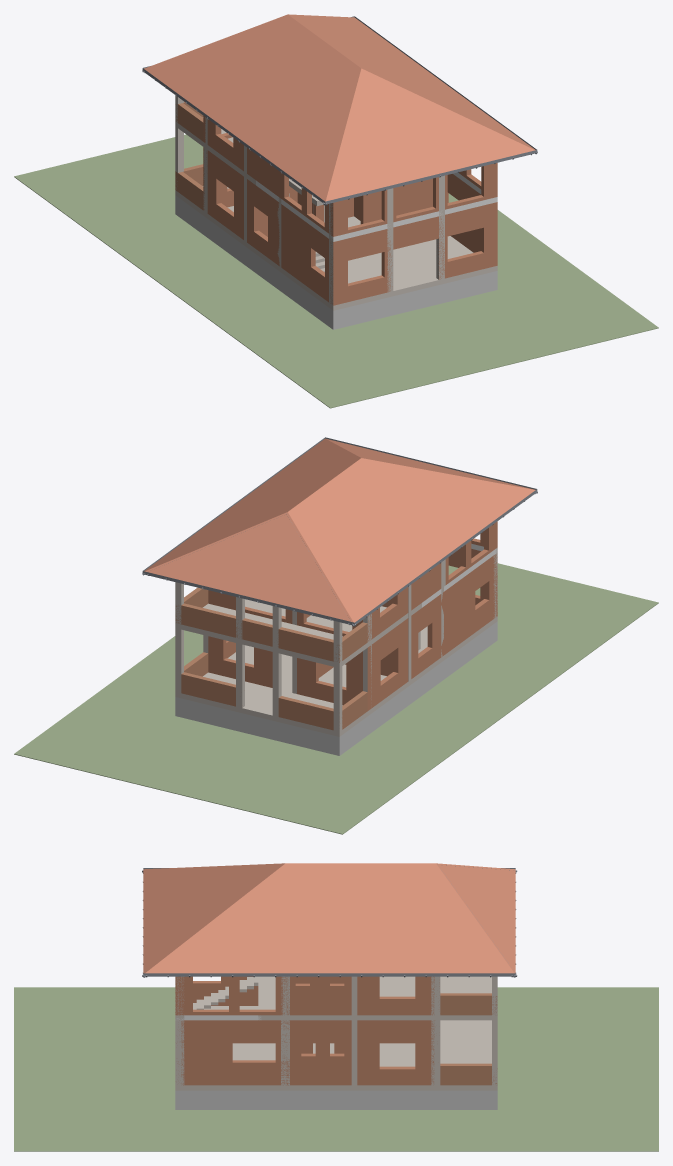
Rendered from konkan_house.glb.
The picture shows the model from 3 angles, top to bottom: view 1: azimuth 30°, elevation 25°; view 2: azimuth 150°, elevation 25°; view 3: azimuth 270°, elevation 25°; orthographic projection.
Parts seen in each view (by area): view 1: Ground, Hip_Roof, Living_Kitchen_South, Plinth, Floor_Slab_0, Living_Kitchen_West, Bedroom_1_West, Living_Kitchen_2_South, Living_Kitchen_2_West, Bathroom_1_South, Living_Kitchen_East, Bedroom_2_West (+9 smaller); view 2: Ground, Hip_Roof, Plinth, Living_Kitchen_West, Floor_Slab_0, Upper_Verandah_North, Floor_Slab_1, Verandah_North, Bedroom_1_West, Bedroom_1_North, Workshop_North, Pillar_0_First_Pillar_1 (+11 smaller); view 3: Ground, Hip_Roof, Living_Kitchen_East, Plinth, Floor_Slab_0, Workshop_East, Floor_Slab_1, Bedroom_3_East, Bathroom_2_East, Living_Kitchen_2_East, pani_patti_E, Verandah_East (+9 smaller).
Part boxes in pixels (x1=…): Ground: x1=14, y1=134, x2=658, y2=408; Hip_Roof: x1=144, y1=14, x2=535, y2=201; Living_Kitchen_South: x1=330, y1=202, x2=497, y2=305; Plinth: x1=175, y1=195, x2=497, y2=329; Floor_Slab_0: x1=175, y1=186, x2=497, y2=310; Living_Kitchen_West: x1=247, y1=179, x2=328, y2=302; Bedroom_1_West: x1=206, y1=150, x2=243, y2=239; Living_Kitchen_2_South: x1=338, y1=164, x2=492, y2=235; Living_Kitchen_2_West: x1=280, y1=172, x2=338, y2=236; Bathroom_1_South: x1=396, y1=178, x2=432, y2=215; Living_Kitchen_East: x1=447, y1=174, x2=481, y2=252; Bedroom_2_West: x1=207, y1=119, x2=243, y2=171; Ground: x1=14, y1=563, x2=658, y2=834; Hip_Roof: x1=144, y1=438, x2=535, y2=622; Plinth: x1=175, y1=621, x2=497, y2=755; Living_Kitchen_West: x1=411, y1=555, x2=494, y2=678; Floor_Slab_0: x1=175, y1=616, x2=497, y2=736; Upper_Verandah_North: x1=175, y1=603, x2=342, y2=662; Floor_Slab_1: x1=175, y1=599, x2=421, y2=666; Verandah_North: x1=181, y1=672, x2=333, y2=730; Bedroom_1_West: x1=370, y1=618, x2=408, y2=708; Bedroom_1_North: x1=297, y1=646, x2=370, y2=710; Workshop_North: x1=208, y1=636, x2=272, y2=687; Pillar_0_First_Pillar_1: x1=333, y1=621, x2=342, y2=731; Ground: x1=14, y1=987, x2=658, y2=1151; Hip_Roof: x1=143, y1=863, x2=515, y2=973; Living_Kitchen_East: x1=181, y1=1020, x2=351, y2=1085; Plinth: x1=175, y1=1090, x2=497, y2=1109; Floor_Slab_0: x1=175, y1=1006, x2=497, y2=1090; Workshop_East: x1=357, y1=1020, x2=434, y2=1085; Floor_Slab_1: x1=330, y1=976, x2=497, y2=1020; Bedroom_3_East: x1=357, y1=976, x2=434, y2=1015; Bathroom_2_East: x1=288, y1=976, x2=351, y2=1015; Living_Kitchen_2_East: x1=175, y1=976, x2=282, y2=1015; pani_patti_E: x1=143, y1=973, x2=515, y2=976; Verandah_East: x1=440, y1=1063, x2=491, y2=1085.
Size of the model in its own units: 54 by 31.8 by 90.
